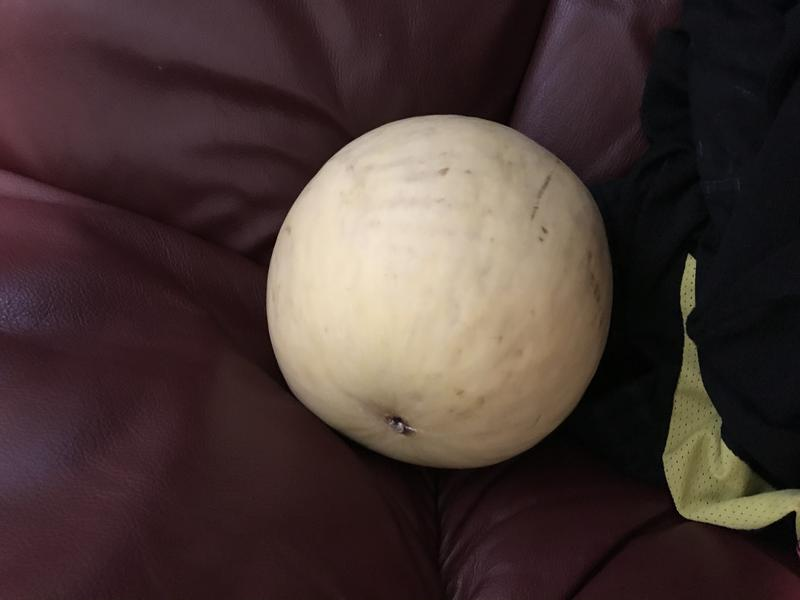honeydew: (254, 99, 630, 483)
